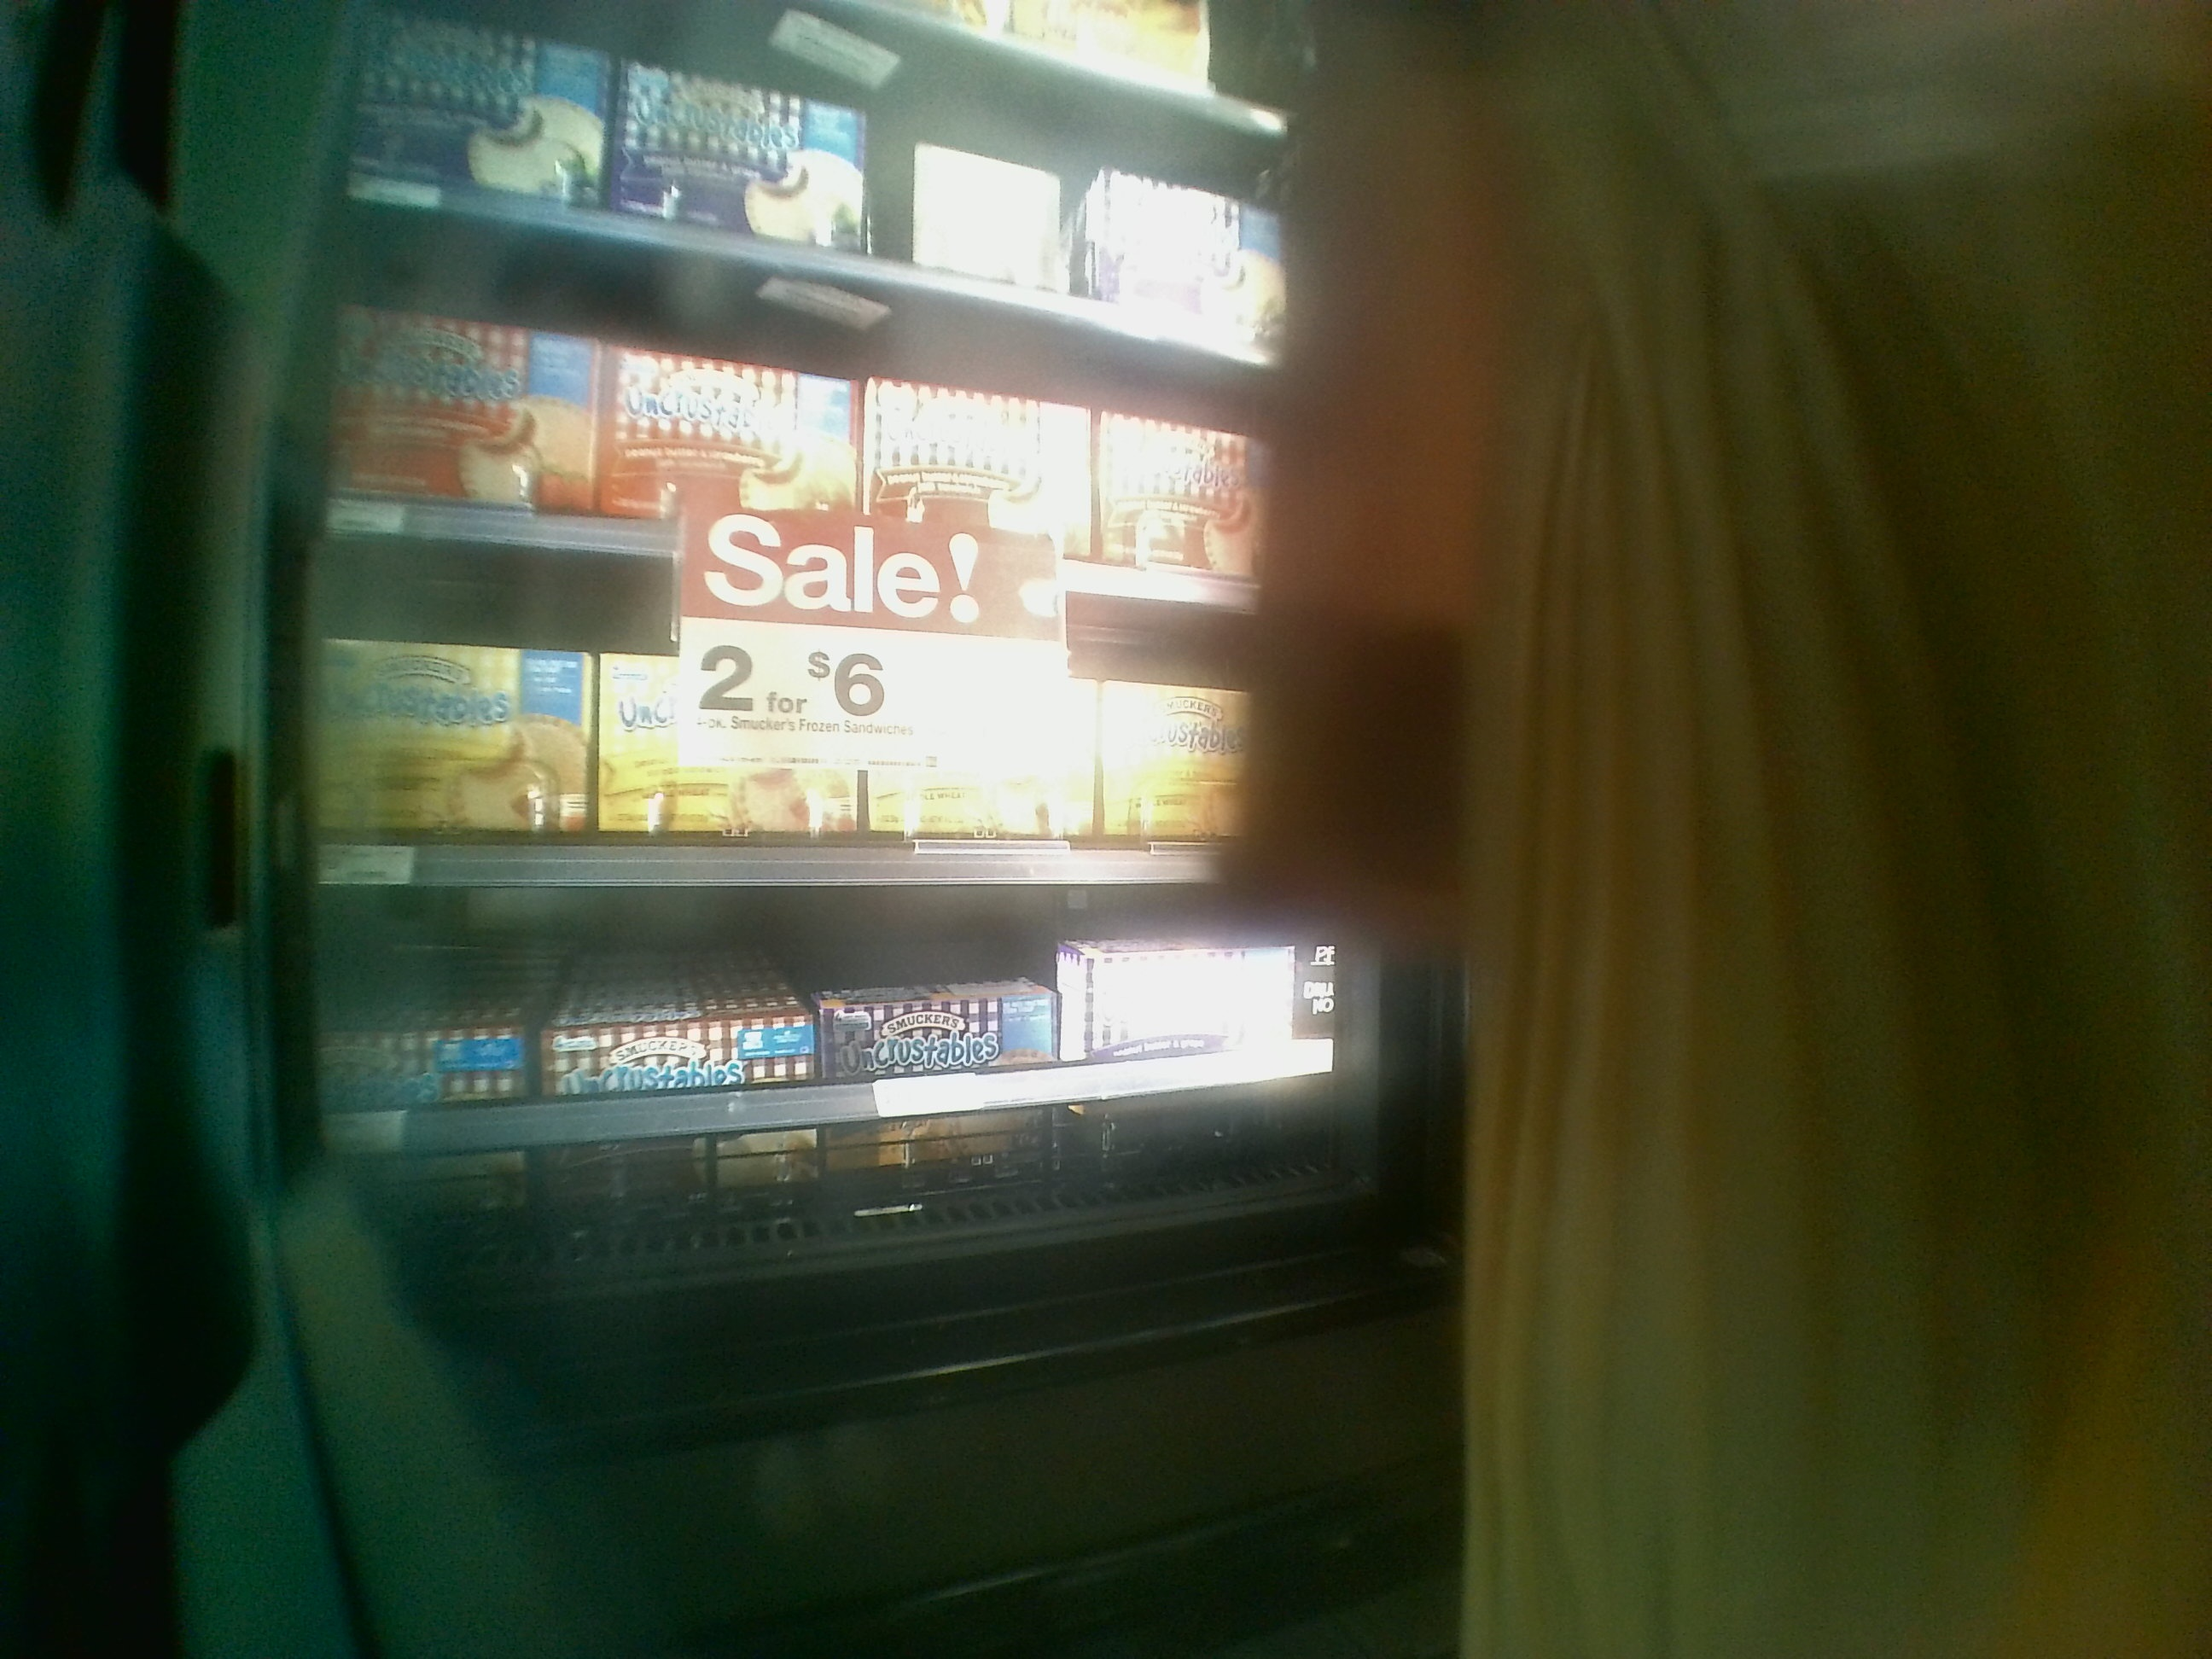shelf: (301, 877, 1378, 1230)
